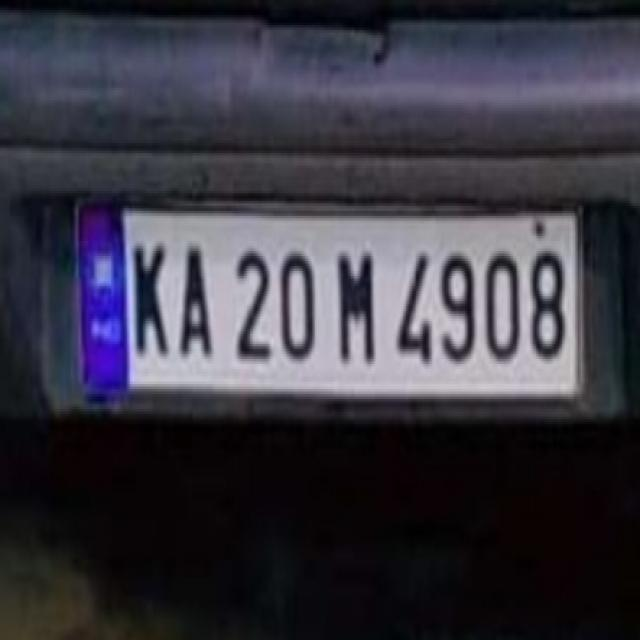0: (480, 242, 522, 366), (277, 242, 319, 364)
4: (393, 236, 436, 372)
8: (526, 247, 568, 368)
9: (438, 242, 482, 368)
A: (176, 242, 215, 364)
K: (130, 237, 171, 369)
M: (337, 241, 377, 370)
